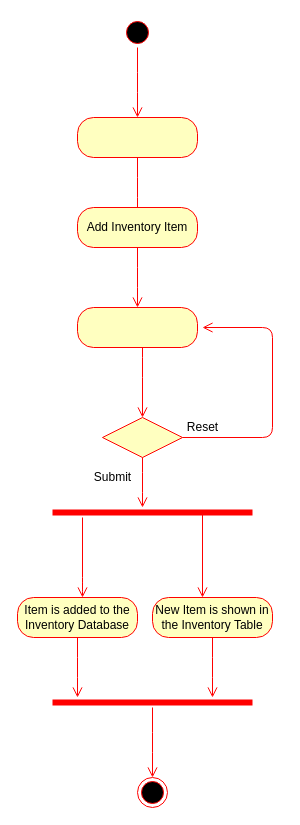
Image size: 300x825. Some labels were removed from this diagram. Here are the shapes that lost their labels. From the top down, the centre of each, then its label:
At [137,137]: "Go to Dashboard/ Inventory".
At [137,327]: "Fill in the form (Item, Supplier, Category etc.)".
